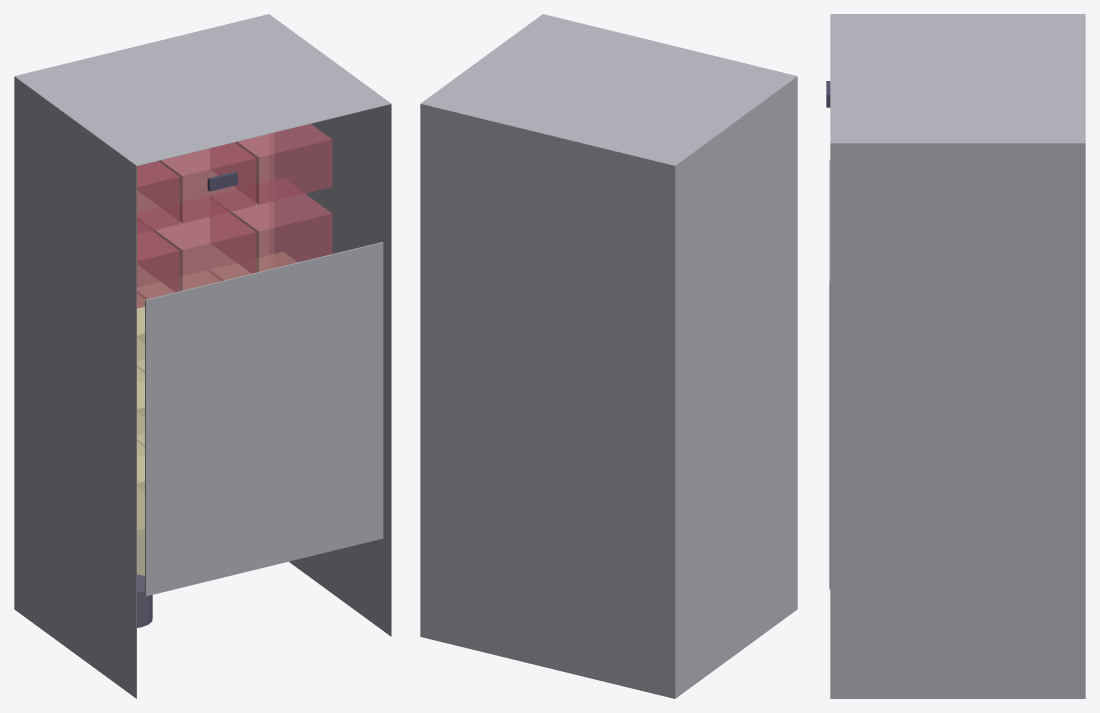
The model's file is winevend.gltf.
3 renders of one model, left to right at view 1: azimuth 30°, elevation 25°; view 2: azimuth 150°, elevation 25°; view 3: azimuth 270°, elevation 25°, orthographic. The views are drawn at different scales.
Visible parts, largest first — view 1: cabinet, door, bib, insulation, pumps; view 2: cabinet; view 3: cabinet, door.
Boxes of the visible parts, x1,y1,x2,y2 form: cabinet: (14,14,391,698); door: (145,242,383,596); bib: (137,124,332,530); insulation: (137,133,273,575); pumps: (137,574,152,627); cabinet: (420,14,797,698); cabinet: (830,14,1085,698); door: (829,160,830,589).
Size of what is drawn, in the model's own units: 0.9015 by 1.8 by 0.7628.
